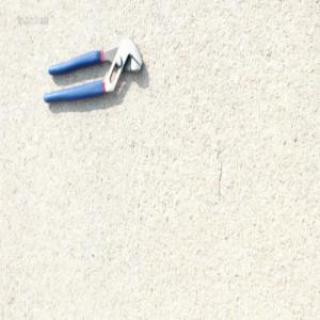Pliertrack_idkeyframe: (42, 37, 142, 105)
